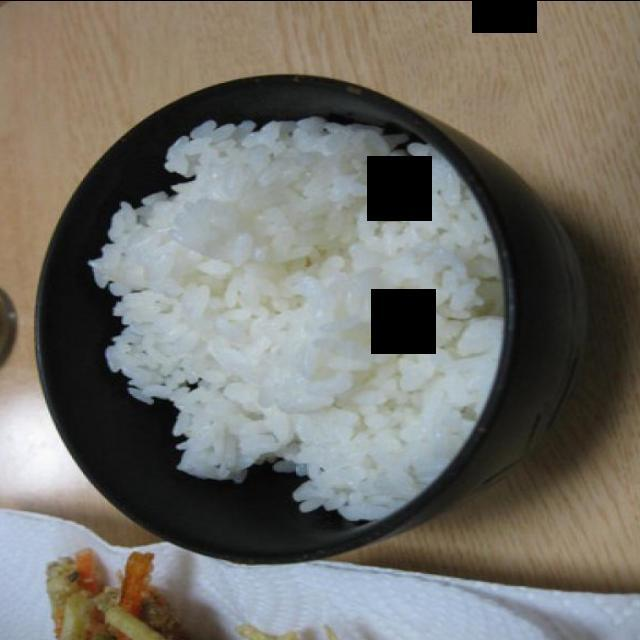rice: (89, 116, 503, 521)
